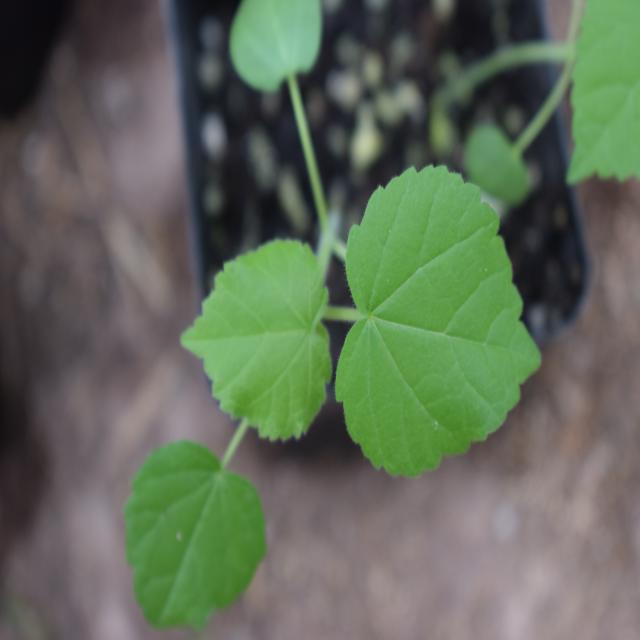abutilon theophrasti: (109, 126, 536, 570)
